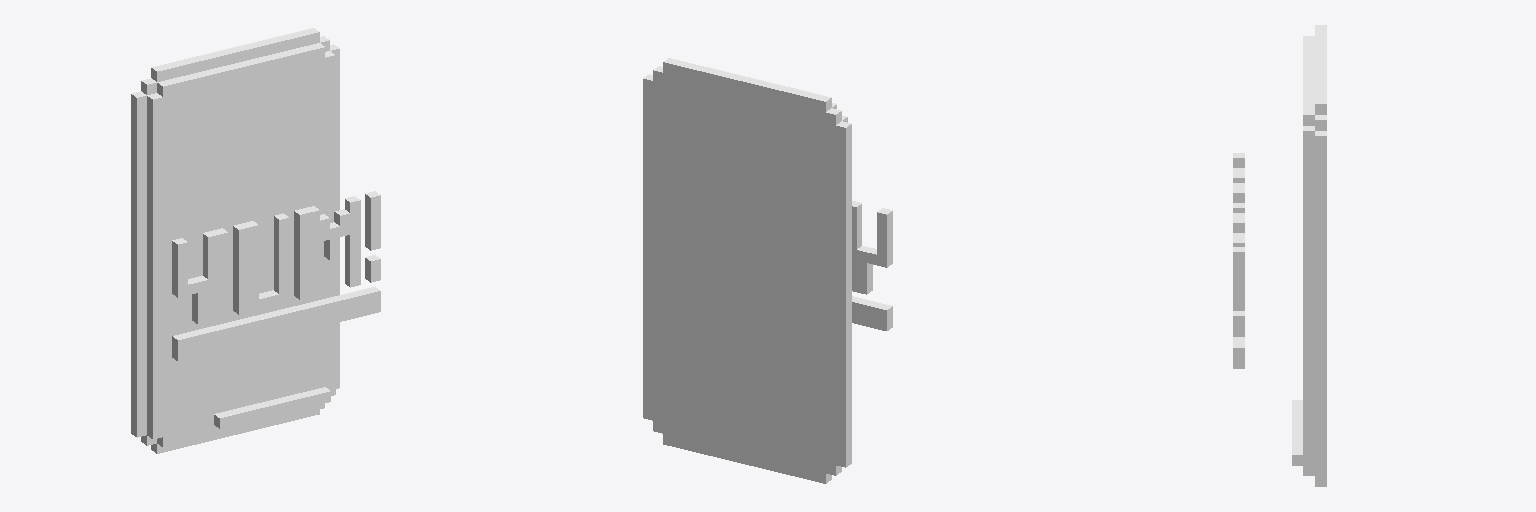
Rendered from yumPhone.obj.
3 views of the same model, side by side, from view 1: azimuth 30°, elevation 25°; view 2: azimuth 150°, elevation 25°; view 3: azimuth 270°, elevation 25° (orthographic).
Size of the model in its own units: 20 by 36 by 8.